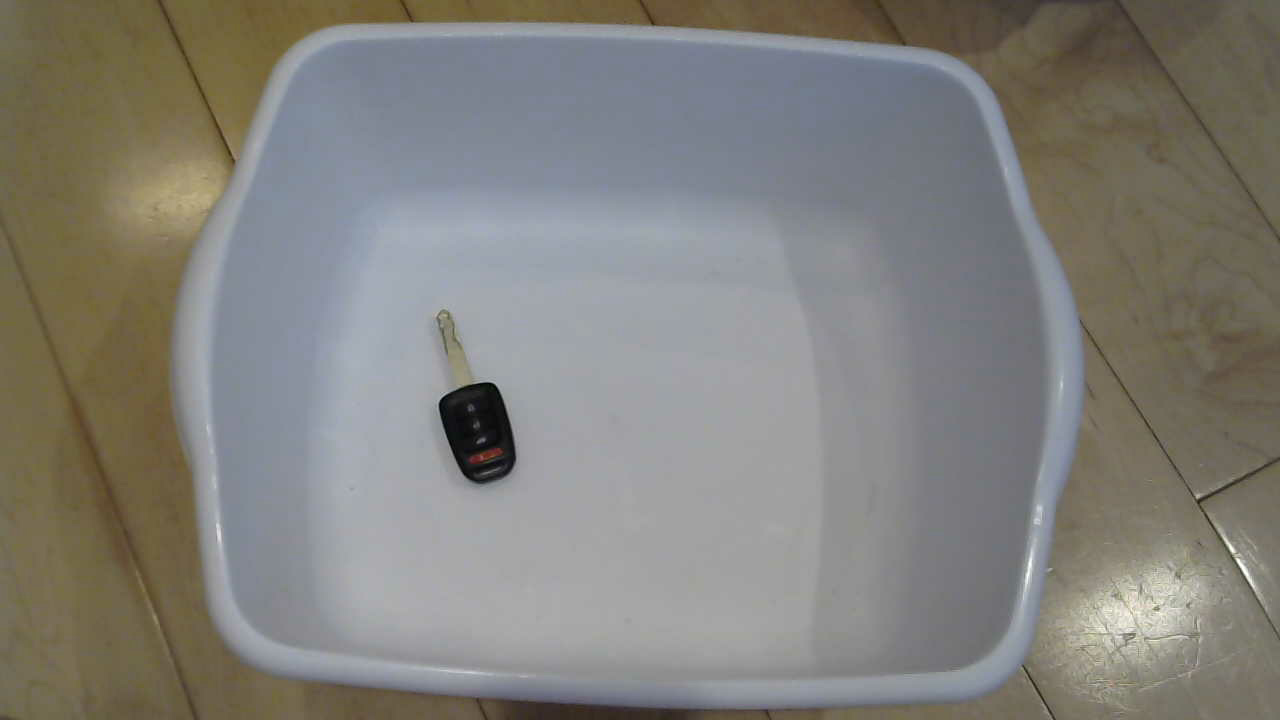key: (381, 306, 535, 498)
